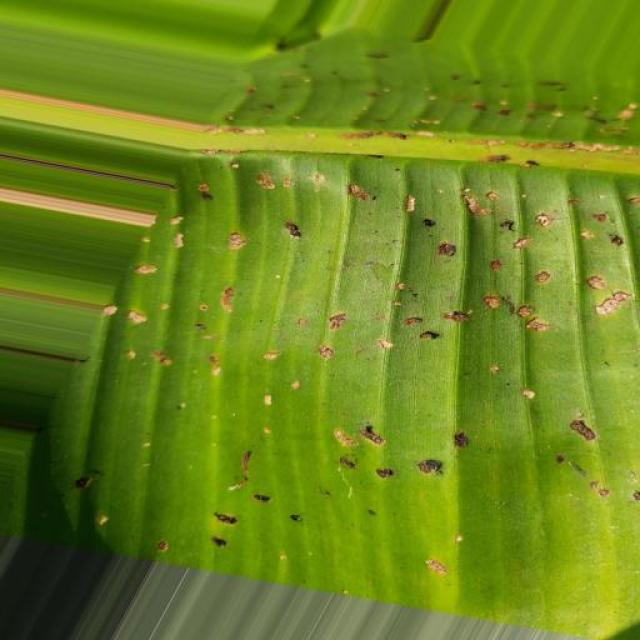Black_rot: (66, 52, 640, 546)
